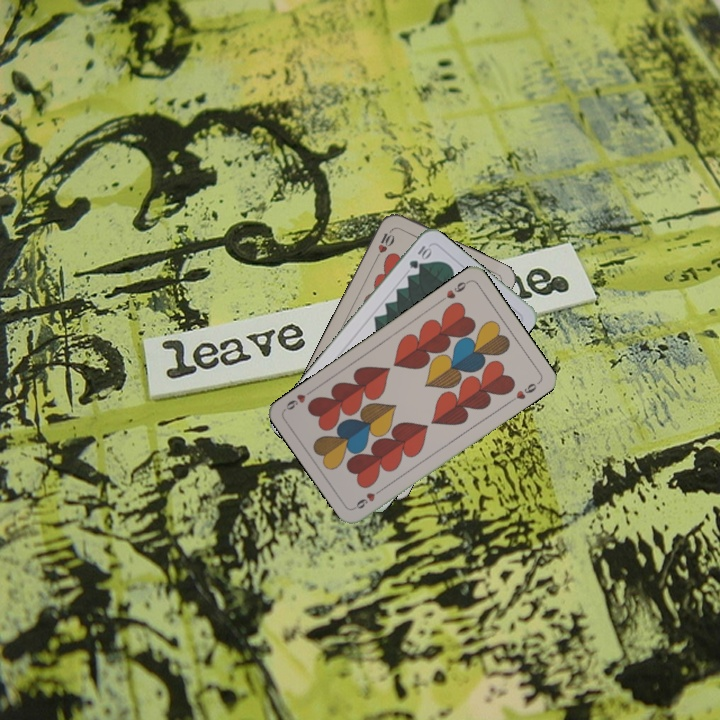G10: (405, 241, 434, 271)
H10: (372, 224, 397, 262)
H9: (436, 277, 472, 305), (350, 484, 386, 512)
